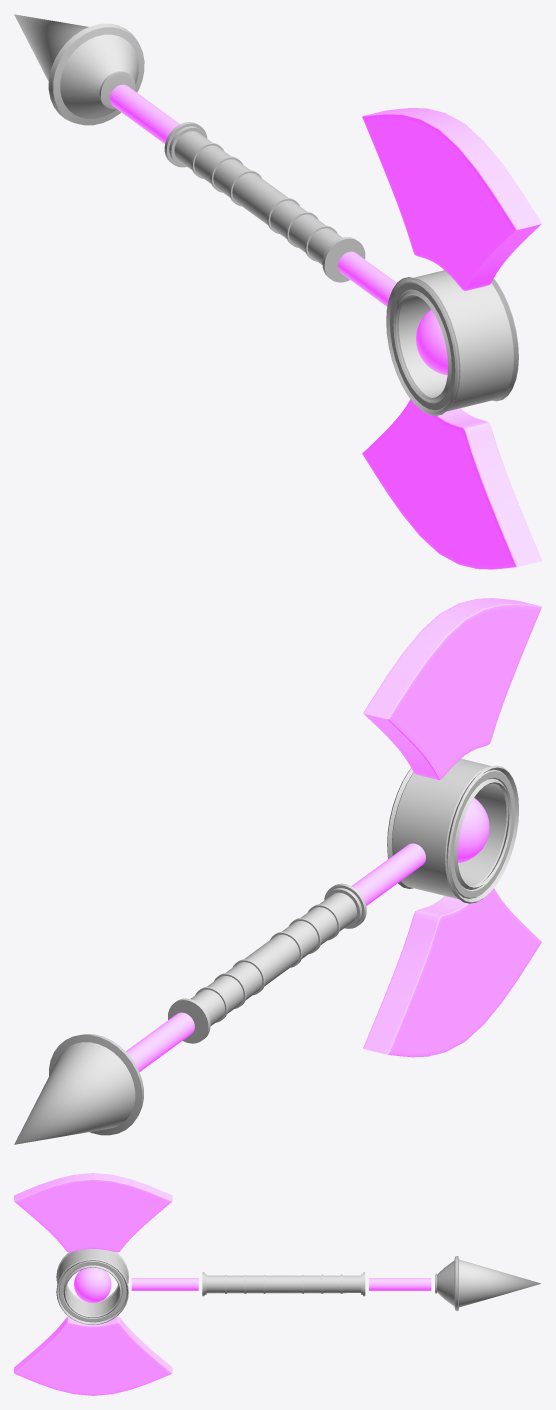
The model's file is WEAPONS - CYRUS' AXE.fbx.
3 views of the same model, one above another, from view 1: azimuth 30°, elevation 25°; view 2: azimuth 150°, elevation 25°; view 3: azimuth 270°, elevation 25° (orthographic). The views are drawn at different scales.
Visible parts, largest first — view 1: ASCIA - CYRUS.002; view 2: ASCIA - CYRUS.002; view 3: ASCIA - CYRUS.002.
Part boxes in pixels (left/top/right/bottom): ASCIA - CYRUS.002: left=14, top=14, right=541, bottom=569; ASCIA - CYRUS.002: left=14, top=598, right=541, bottom=1144; ASCIA - CYRUS.002: left=14, top=1173, right=541, bottom=1395.
Size of the model in its own units: 16.14 by 69.73 by 154.
